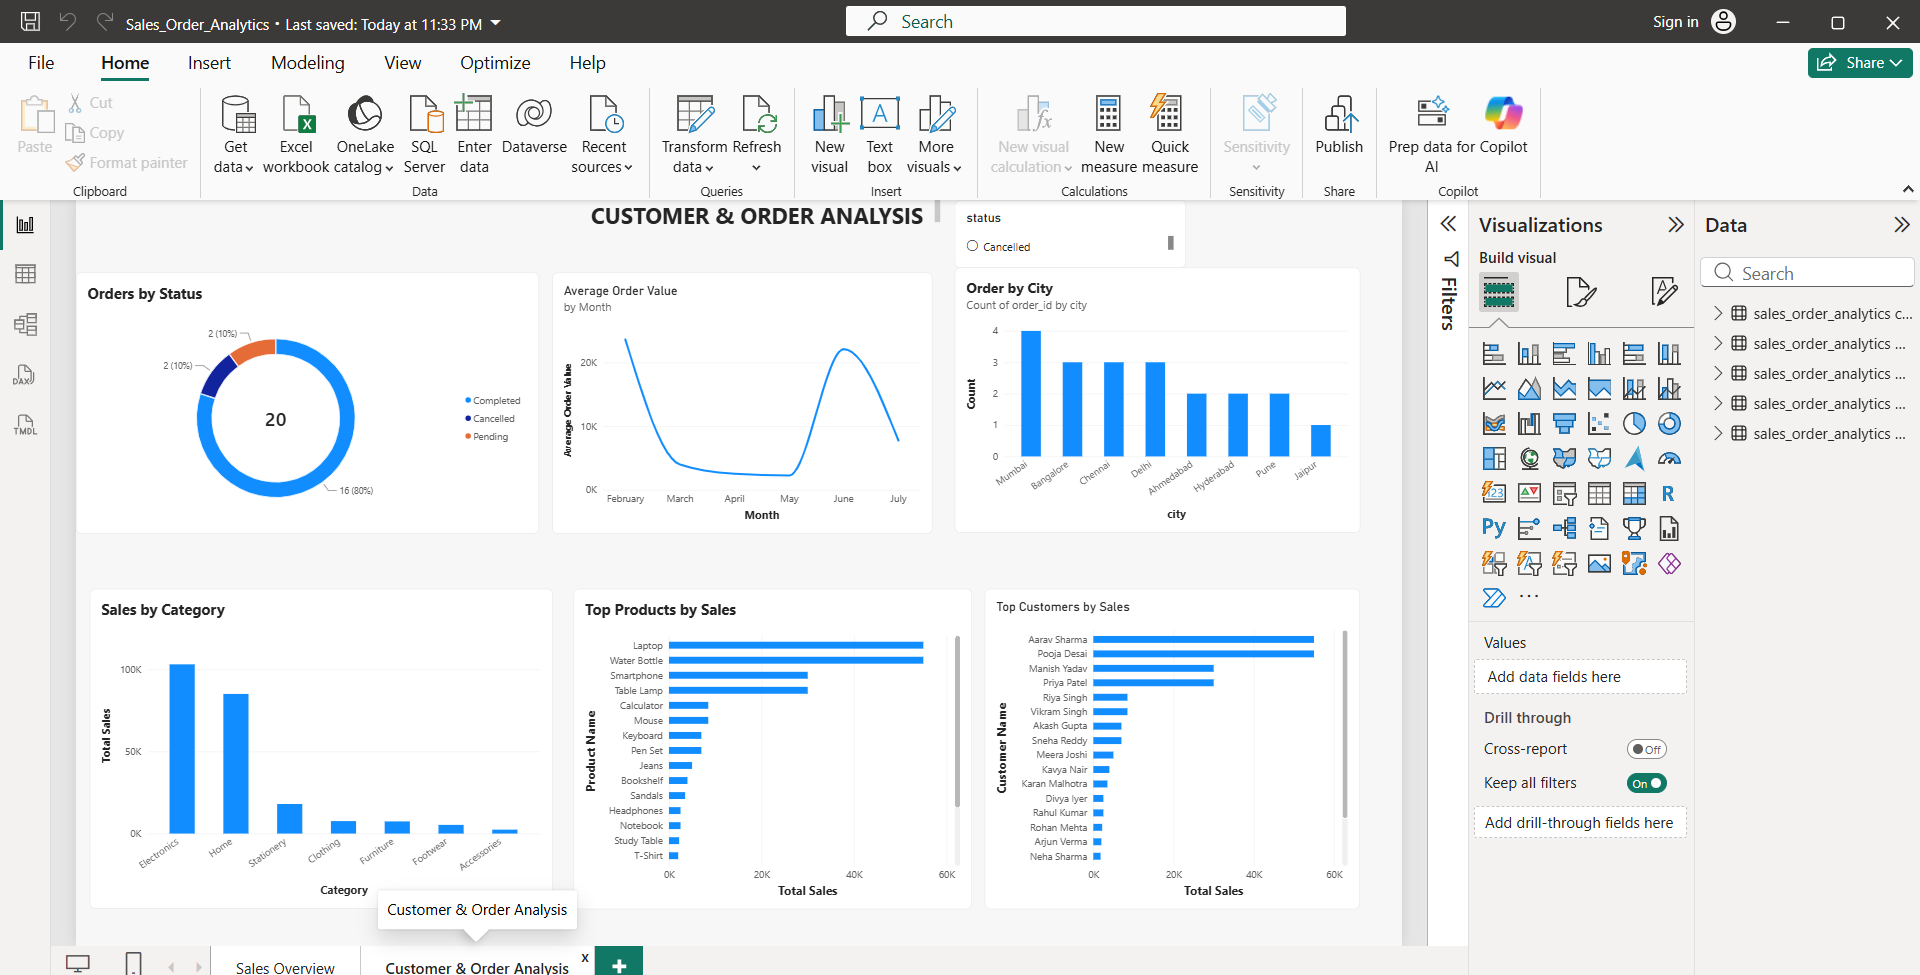

The page's visual inventory and layout, read from the dashboard file:
{"tool":"powerbi","page":{"name":"Customer & Order Analysis","canvas":[1920,1080],"ordinal":1},"visuals":[{"type":"donutChart","title":"Orders by Status","fields":{"Category":["sales_order_analytics orders.status"],"Y":["CountNonNull(sales_order_analytics orders.order_id)"]},"box":[0,104.3,670,378.6],"z":0},{"type":"clusteredColumnChart","title":"Sales by Category","fields":{"Category":["sales_order_analytics products.category"],"Y":["sales_order_analytics customers.Total Sales"]},"box":[20,562.9,670,462.9],"z":1},{"type":"lineChart","fields":{"Category":["sales_order_analytics orders.order_date.Variation.Date Hierarchy.Month"],"Y":["sales_order_analytics customers.Average Order Value"]},"box":[690,104.3,550,378.6],"z":2},{"type":"clusteredBarChart","title":"Top Products by Sales","fields":{"Category":["sales_order_analytics products.product_name"],"Y":["sales_order_analytics customers.Total Sales"]},"box":[720,562.9,577.1,464.3],"z":3},{"type":"clusteredBarChart","title":"Top Customers by Sales","fields":{"Category":["sales_order_analytics customers.name"],"Y":["sales_order_analytics customers.Total Sales"]},"box":[1315.7,562.9,542.9,464.3],"z":4},{"type":"listSlicer","fields":{"Values":["sales_order_analytics orders.status"]},"box":[1271.4,0,334.3,98.6],"z":5},{"type":"textbox","box":[592.9,0,491.4,57.1],"z":6},{"type":"textbox","box":[745.7,0,505.7,37.1],"z":8},{"type":"clusteredColumnChart","title":"Order by City","fields":{"Category":["sales_order_analytics customers.city"],"Y":["CountNonNull(sales_order_analytics order_items.order_id)"]},"box":[1271.4,98.6,587.1,384.3],"z":9}]}

Visuals, with their boxes on the page's 1920x1080 design canvas (x1, y1, x2, y2). These are canvas units, not pixel positions in the 1920x975 screenshot, which may show the page scaled, cropped or inside an application window:
"Orders by Status" donutChart: crop(0, 104, 670, 483)
"Sales by Category" clusteredColumnChart: crop(20, 563, 690, 1026)
lineChart - sales_order_analytics orders.order_date.Variation.Date Hierarchy.Month x sales_order_analytics customers.Average Order Value: crop(690, 104, 1240, 483)
"Top Products by Sales" clusteredBarChart: crop(720, 563, 1297, 1027)
"Top Customers by Sales" clusteredBarChart: crop(1316, 563, 1859, 1027)
listSlicer - sales_order_analytics orders.status: crop(1271, 0, 1606, 99)
textbox: crop(593, 0, 1084, 57)
textbox: crop(746, 0, 1251, 37)
"Order by City" clusteredColumnChart: crop(1271, 99, 1858, 483)
